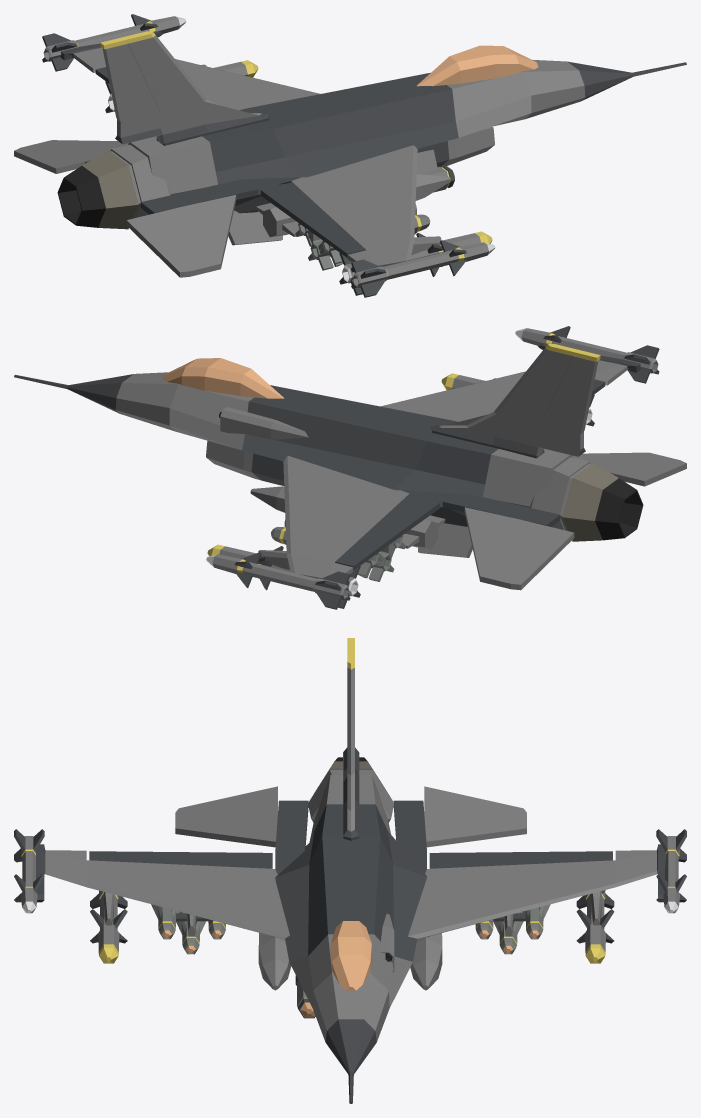
Rendered from std.glb.
The picture shows the model from 3 angles, top to bottom: view 1: azimuth 30°, elevation 25°; view 2: azimuth 150°, elevation 25°; view 3: azimuth 270°, elevation 25°; orthographic projection. The views are drawn at different scales.
Parts seen in each view (by area): view 1: Cylinder.001; view 2: Cylinder.001; view 3: Cylinder.001.
Boxes of the visible parts, x1,y1,x2,y2 form: Cylinder.001: (14,14,686,297); Cylinder.001: (14,326,686,609); Cylinder.001: (14,638,686,1103).
Bounding box in the file's own units: 922 × 319 × 838.
